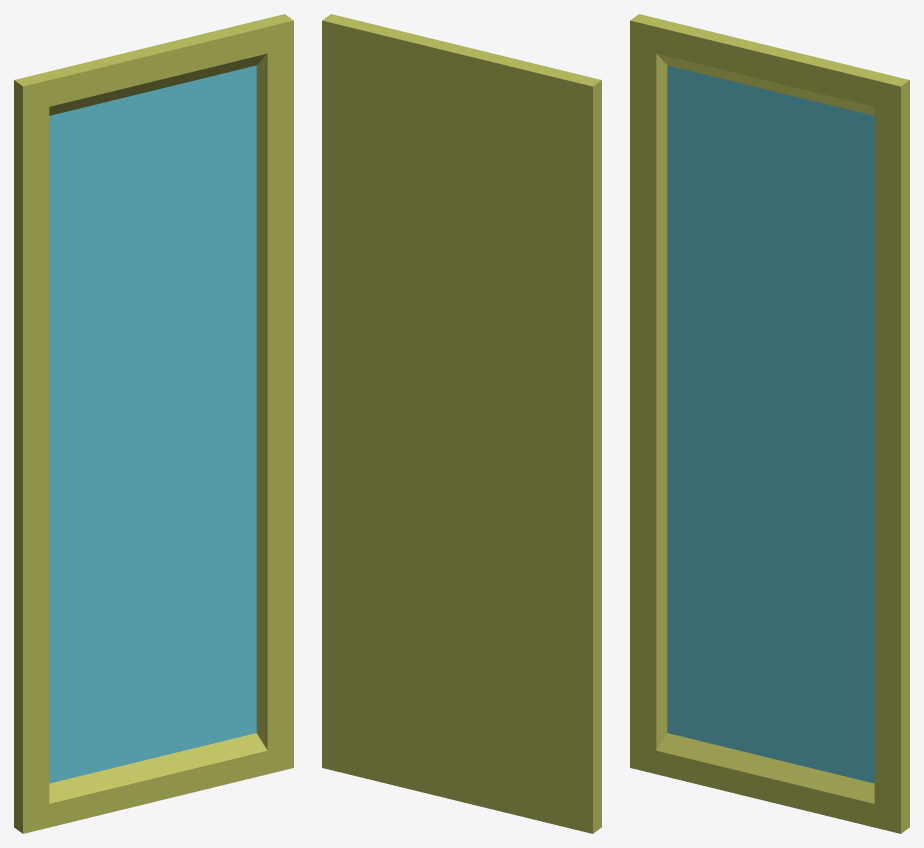
Rendered from Mirror.fbx.
3 views of the same model, side by side, from view 1: azimuth 30°, elevation 25°; view 2: azimuth 150°, elevation 25°; view 3: azimuth 330°, elevation 25° (orthographic).
Visible parts, largest first — view 1: Mirror; view 2: Mirror; view 3: Mirror.
Part boxes in pixels (x1,y1,x2,y2): Mirror: [14, 14, 293, 833]; Mirror: [322, 14, 601, 833]; Mirror: [630, 14, 909, 833].
Bounding box in the file's own units: 0.5082 × 0.0291 × 1.34.
